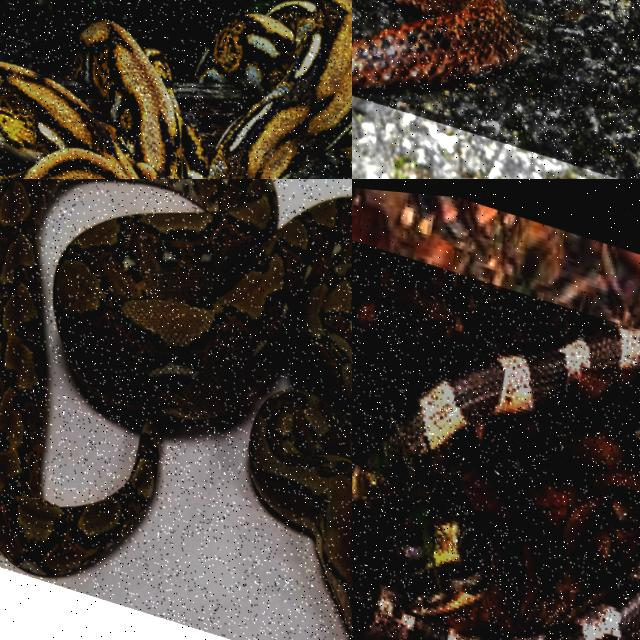Bungarus candidus: (352, 525, 500, 639)
Malayopython reticulatus: (0, 179, 351, 636), (0, 0, 351, 178)
Ovophis monticola: (352, 0, 520, 90)
